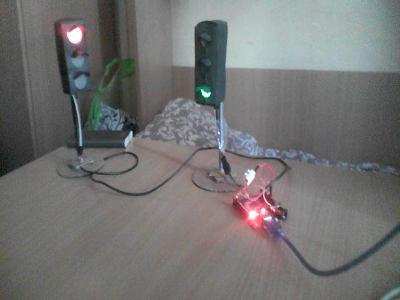trafficlight_green: (194, 23, 218, 102)
trafficlight_red: (60, 20, 90, 92)
